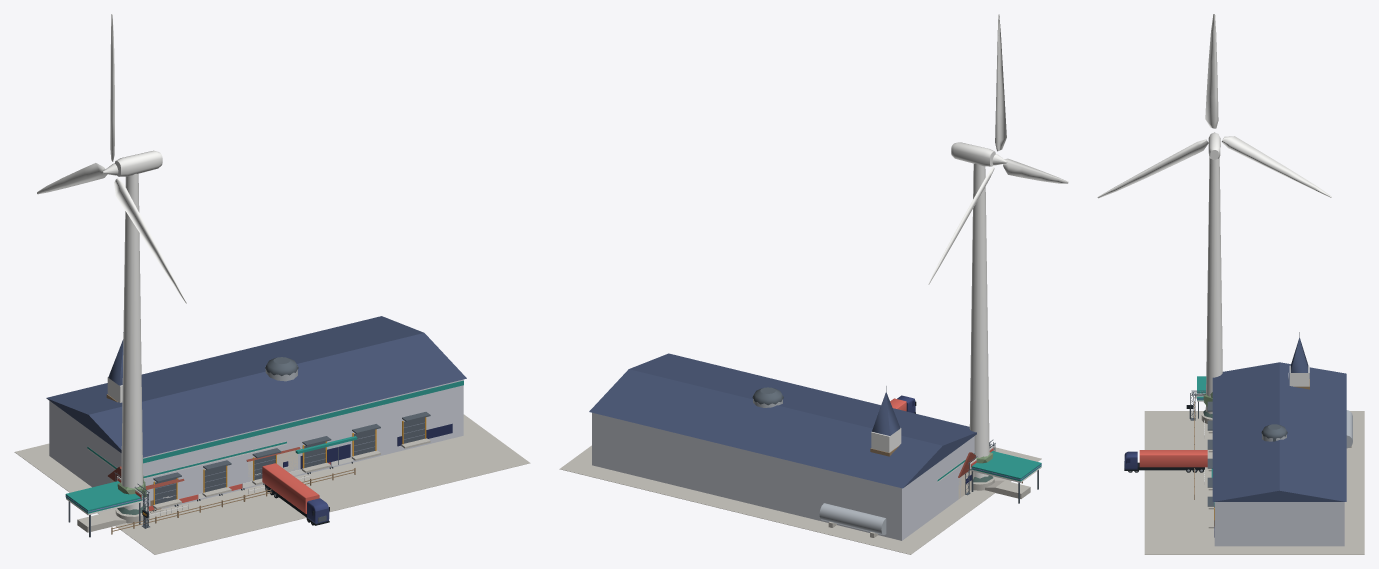
The model's file is road.glb.
3 views of the same model, side by side, from view 1: azimuth 30°, elevation 25°; view 2: azimuth 150°, elevation 25°; view 3: azimuth 270°, elevation 25° (orthographic). The views are drawn at different scales.
Visible parts, largest first — view 1: Warehouse, WindTurbine, StartRamp, FuelDepot, Farm, Village; view 2: Warehouse, WindTurbine, StartRamp, FuelDepot, Village, Farm; view 3: Warehouse, WindTurbine, Village, Farm, FuelDepot.
Part boxes in pixels (left/top/right/bottom): Warehouse: left=14, top=316, right=530, bottom=554; WindTurbine: left=37, top=14, right=186, bottom=523; StartRamp: left=65, top=481, right=148, bottom=537; FuelDepot: left=39, top=436, right=357, bottom=487; Farm: left=108, top=357, right=355, bottom=534; Village: left=106, top=332, right=310, bottom=518; Warehouse: left=559, top=353, right=1041, bottom=554; WindTurbine: left=928, top=14, right=1068, bottom=490; StartRamp: left=970, top=451, right=1041, bottom=503; FuelDepot: left=819, top=453, right=974, bottom=543; Village: left=870, top=386, right=975, bottom=496; Farm: left=752, top=387, right=1022, bottom=498; Warehouse: left=1124, top=362, right=1364, bottom=554; WindTurbine: left=1097, top=14, right=1331, bottom=423; Village: left=1204, top=332, right=1309, bottom=484; Farm: left=1194, top=401, right=1287, bottom=499; FuelDepot: left=1204, top=410, right=1352, bottom=491.
Bounding box in the file's own units: 74.03 × 87.82 × 53.44.
